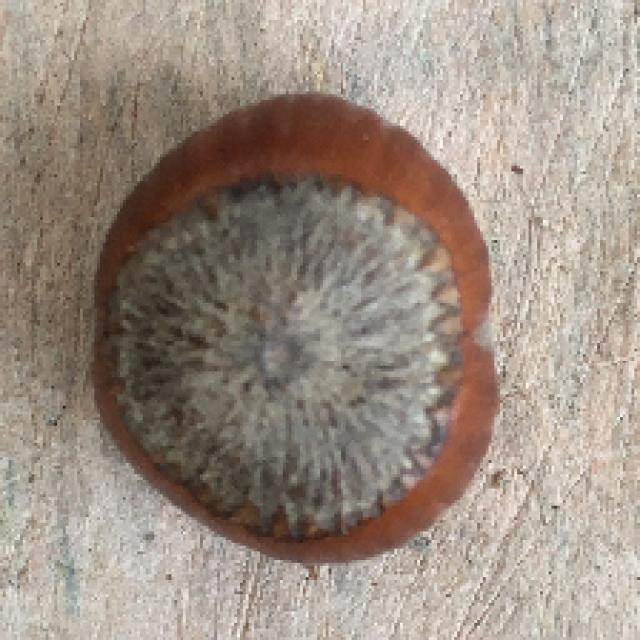damagedHazelnut: (91, 91, 498, 564)
